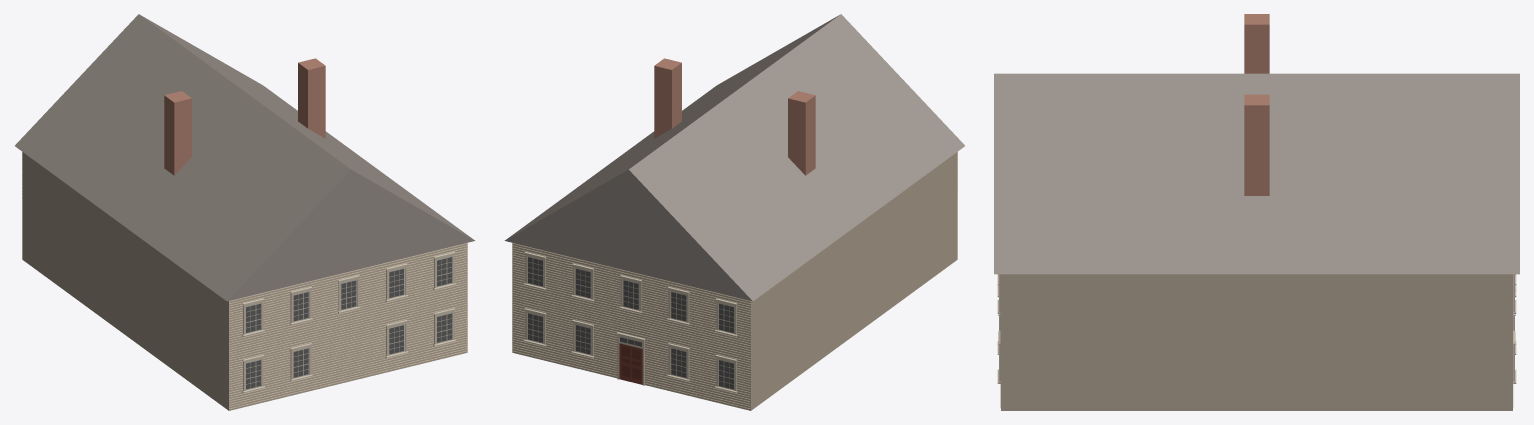
The model's file is western_hotel__frame_1834.glb.
3 renders of one model, left to right at view 1: azimuth 30°, elevation 25°; view 2: azimuth 150°, elevation 25°; view 3: azimuth 270°, elevation 25°, orthographic. The views are drawn at different scales.
Parts seen in each view (by area): view 1: western_hotel__frame_1834; view 2: western_hotel__frame_1834; view 3: western_hotel__frame_1834.
Boxes of the visible parts, x1,y1,x2,y2 form: western_hotel__frame_1834: [15, 14, 475, 410]; western_hotel__frame_1834: [504, 14, 964, 410]; western_hotel__frame_1834: [994, 14, 1519, 410].
Bounding box in the file's own units: 12.69 × 11.01 × 18.79.
